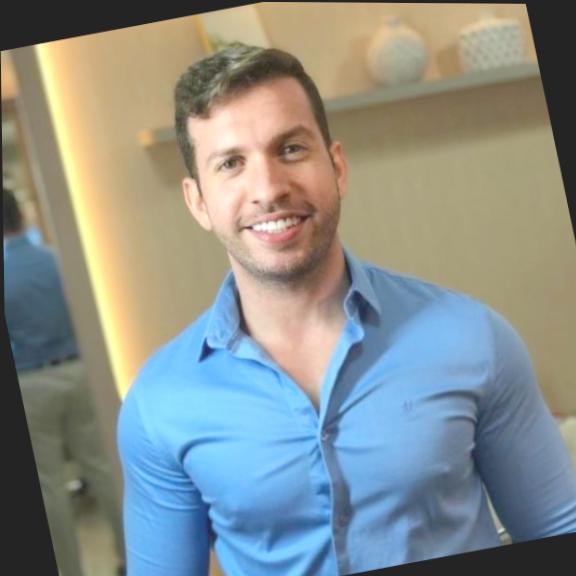no_safety_vest: (50, 205, 576, 576)
